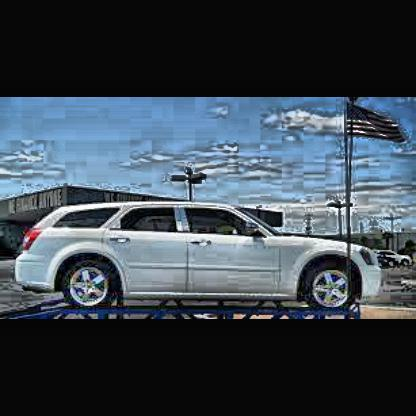Dodge Magnum Wagon 2008: (19, 198, 390, 311)
